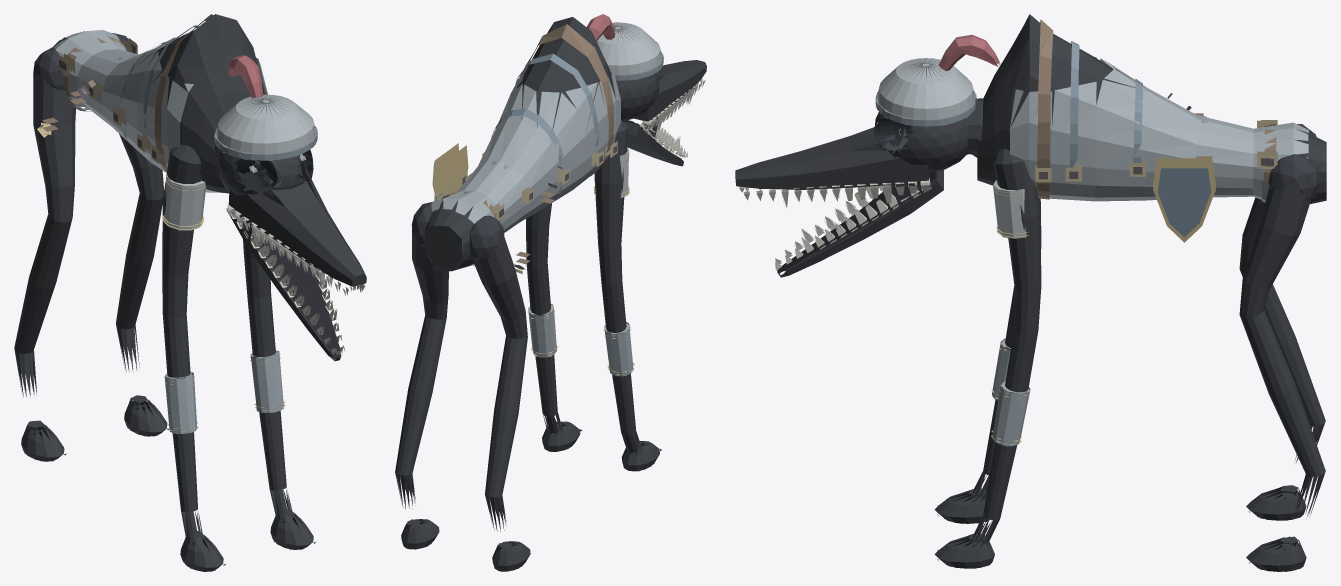
The model's file is LongmawKnight.glb.
3 views of the same model, side by side, from view 1: azimuth 30°, elevation 25°; view 2: azimuth 150°, elevation 25°; view 3: azimuth 270°, elevation 25° (orthographic). The views are drawn at different scales.
Visible parts, largest first — view 1: Head, Body, ArmR, LegR, ArmL, LegL; view 2: Body, LegR, Head, ArmR, LegL, ArmL; view 3: Body, Head, LegL, ArmL, LegR, ArmR.
Part boxes in pixels (bbox=[...]): Head: bbox=[214, 55, 366, 361]; Body: bbox=[37, 14, 267, 193]; ArmR: bbox=[162, 144, 225, 571]; LegR: bbox=[14, 47, 75, 461]; ArmL: bbox=[243, 239, 315, 549]; LegL: bbox=[112, 33, 168, 436]; Body: bbox=[425, 17, 620, 273]; LegR: bbox=[469, 215, 530, 571]; Head: bbox=[587, 14, 706, 166]; ArmR: bbox=[593, 120, 661, 471]; LegL: bbox=[395, 201, 451, 549]; ArmL: bbox=[526, 203, 582, 451]; Body: bbox=[977, 14, 1326, 242]; Head: bbox=[735, 34, 1000, 277]; LegL: bbox=[1239, 154, 1325, 571]; ArmL: bbox=[934, 148, 1041, 568]; LegR: bbox=[1239, 124, 1325, 520]; ArmR: bbox=[934, 198, 1041, 523].
Bounding box in the file's own units: 1.92 × 6.89 × 7.03.
